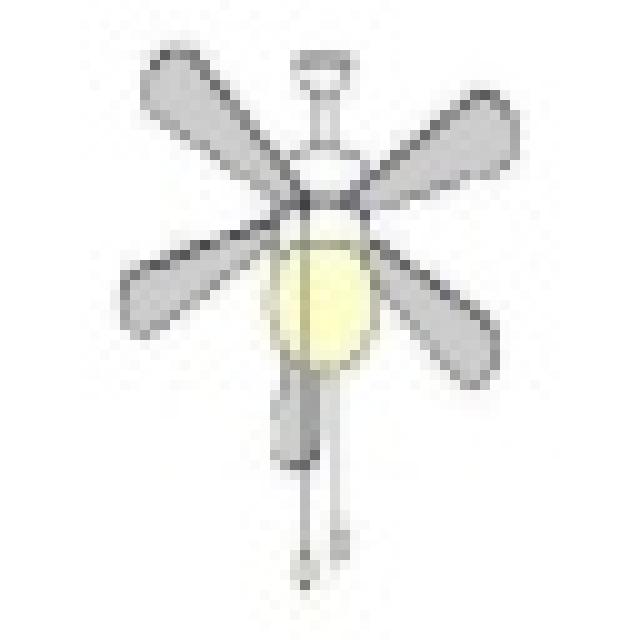Bulb: (89, 25, 555, 408)
